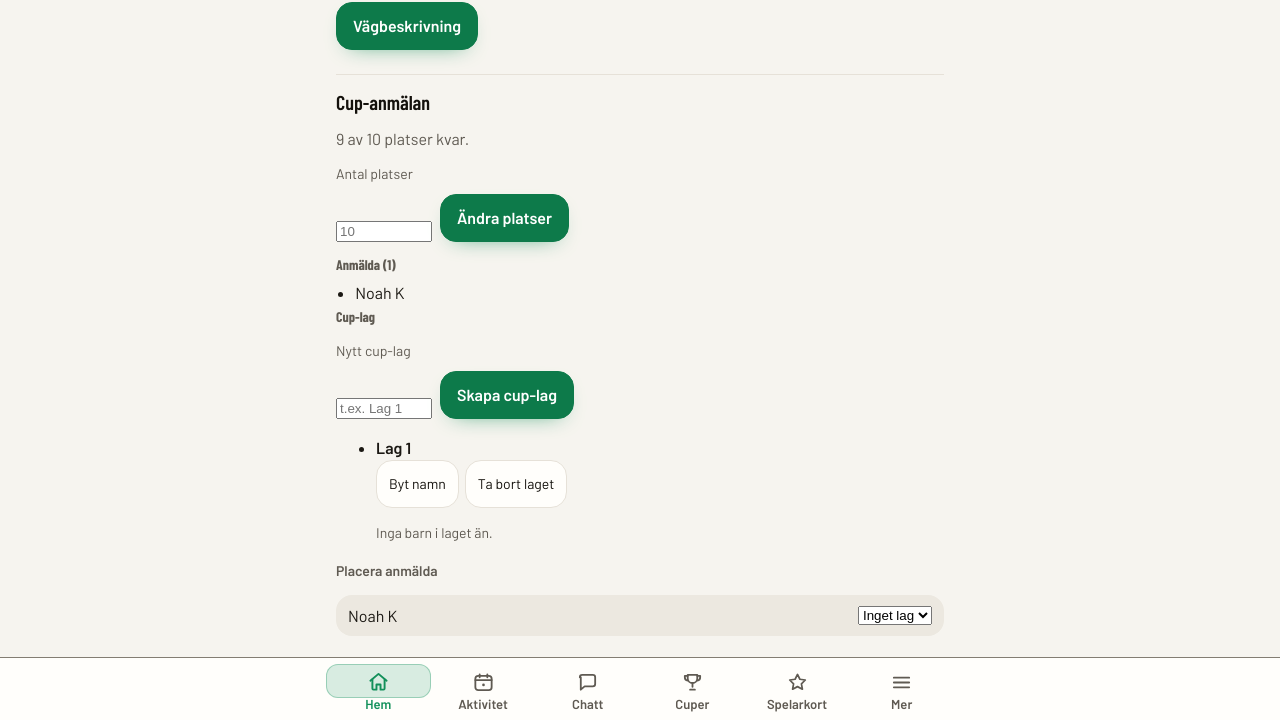
Test: admin placerar anmälda barn i cup-lag (#538) › låser lagväljaren medan placeringen sparas så den inte snäpper tillbaka
(page scrolled)
Step 1. Select "Lag 1" in the dropdown labelled "Noah K" → (895, 616), box [858,606,932,625]
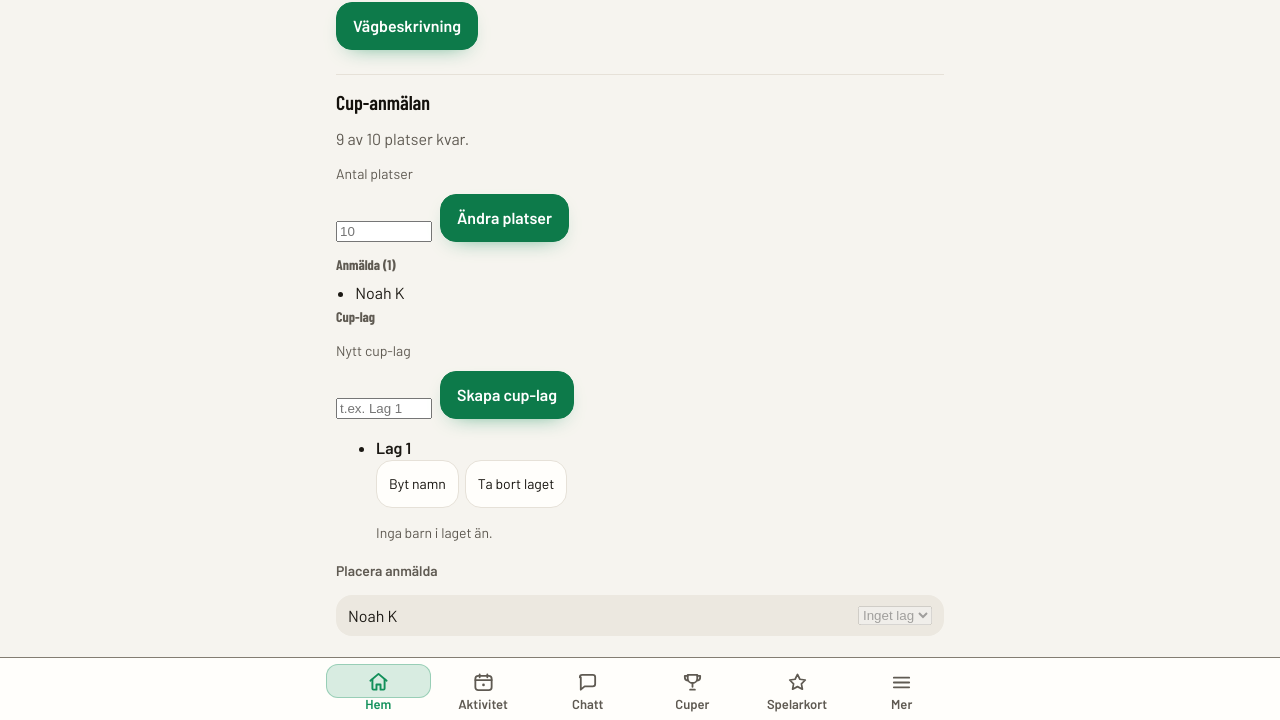
Expected: the dropdown labelled "Noah K" is disabled, [858,606,932,625]
